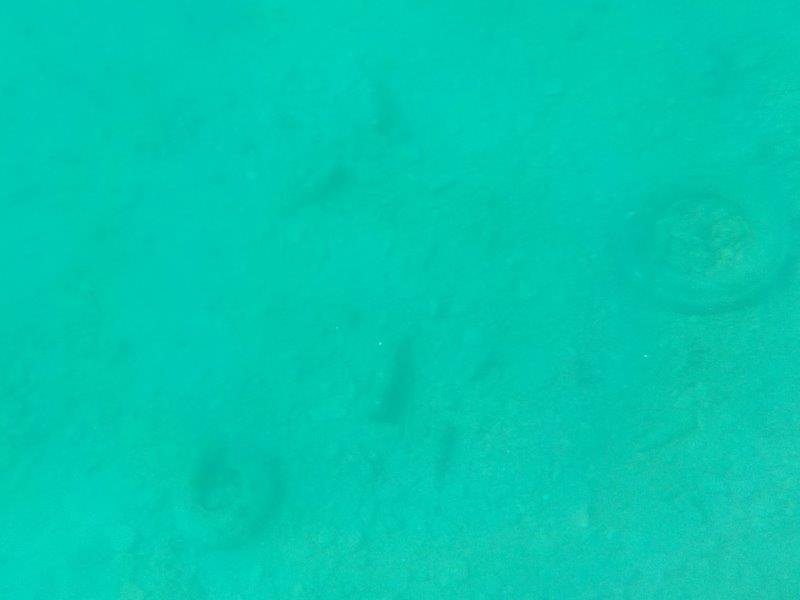bottle: (360, 328, 416, 425), (628, 407, 701, 458)
tire: (612, 163, 800, 318), (159, 428, 283, 556)
